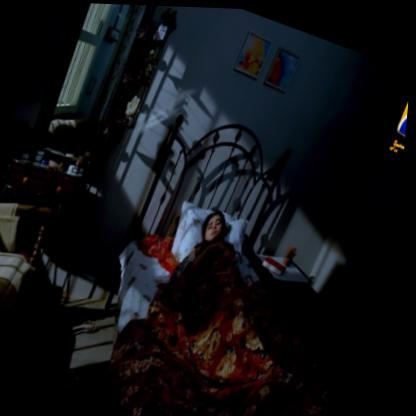Bed: (65, 103, 391, 416)
